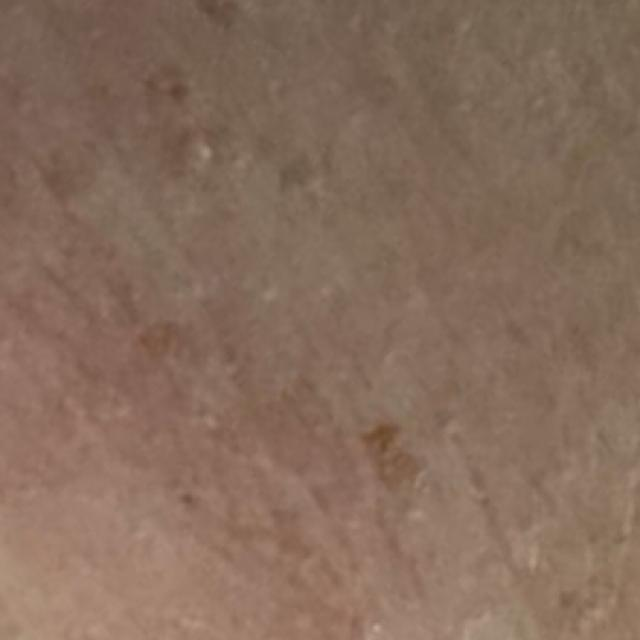wart: (356, 412, 439, 493)
